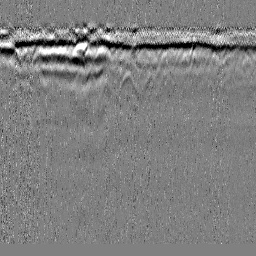cavity: (117, 69, 139, 97)
